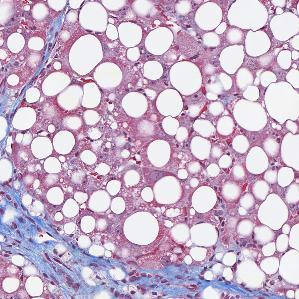fibrosis: (46, 255, 202, 299), (3, 198, 66, 266)
